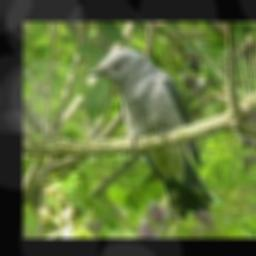Cuckoo: (87, 48, 213, 218)
